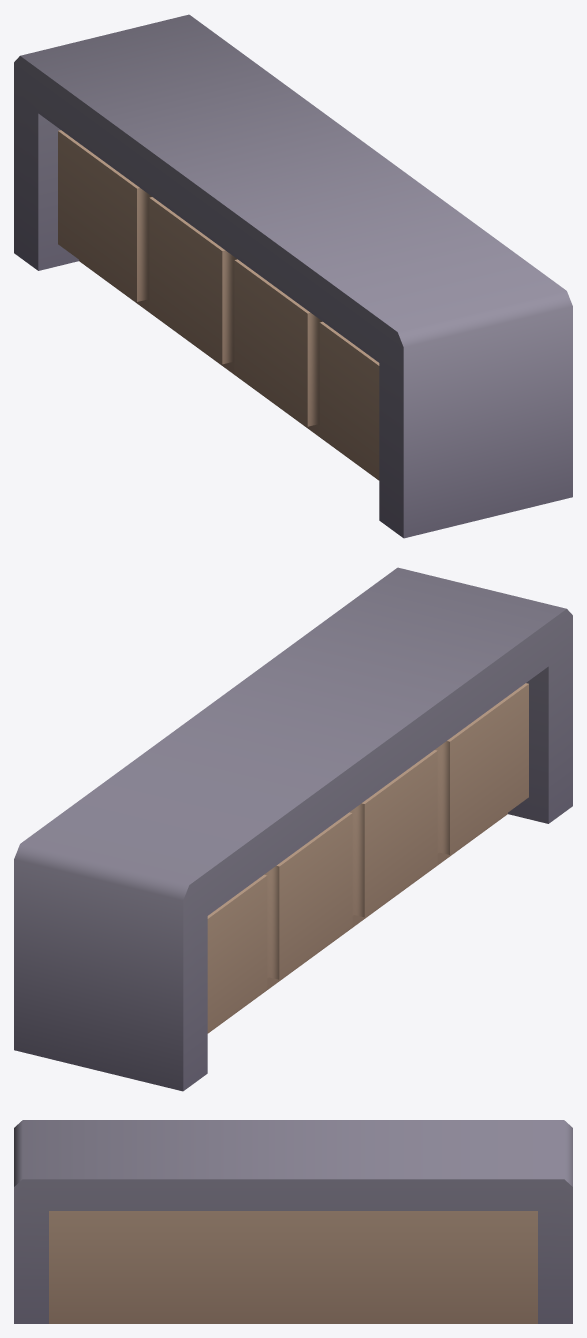
File: tv-cabinet-heavy.glb
3 views of the same model, one above another, from view 1: azimuth 30°, elevation 25°; view 2: azimuth 150°, elevation 25°; view 3: azimuth 270°, elevation 25° (orthographic). The views are drawn at different scales.
Visible parts, largest first — view 1: tv-cabinet-heavy; view 2: tv-cabinet-heavy; view 3: tv-cabinet-heavy.
Part boxes in pixels (box(x1,y1,x2,y2)): tv-cabinet-heavy: box(14, 14, 572, 538); tv-cabinet-heavy: box(14, 567, 572, 1091); tv-cabinet-heavy: box(14, 1120, 572, 1323).
Size of the model in its own units: 0.4 by 0.456 by 1.6.
